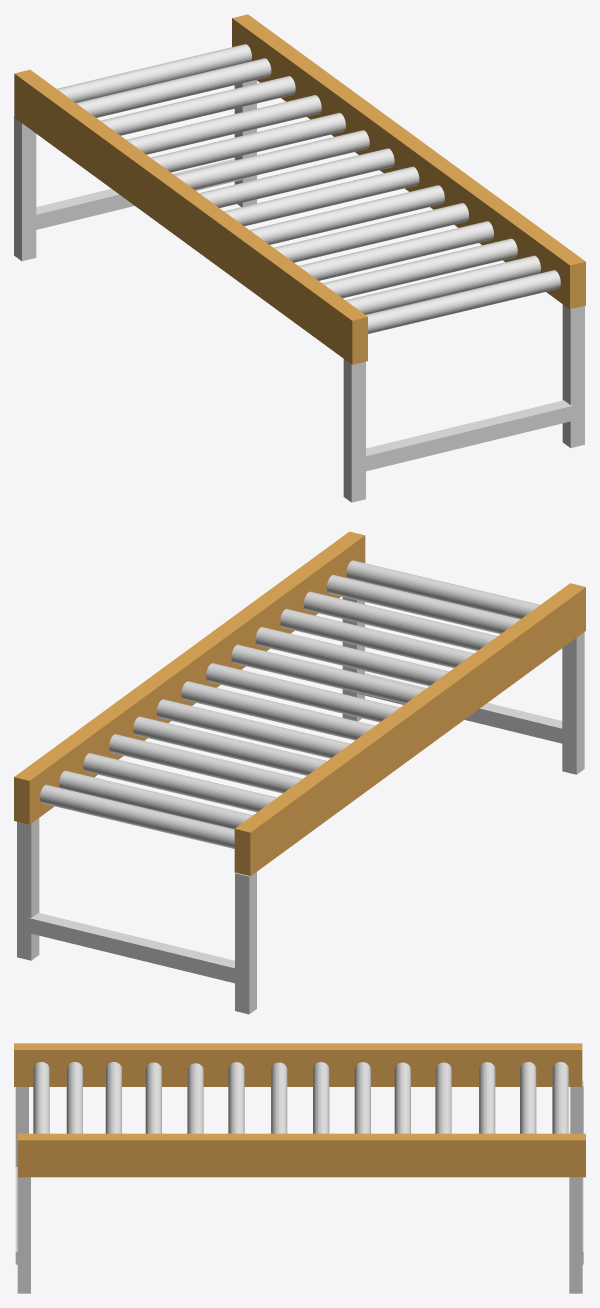
The model's file is transTape.glb.
3 renders of one model, top to bottom at view 1: azimuth 30°, elevation 25°; view 2: azimuth 150°, elevation 25°; view 3: azimuth 270°, elevation 25°, orthographic. The views are drawn at different scales.
Visible parts, largest first — view 1: 柱体, left, 立方体, 立方体.001; view 2: 柱体, left, 立方体.001, 立方体; view 3: left, 柱体, 立方体, 立方体.001.
Part boxes in pixels (x1,y1,x2,y2): 柱体: (57, 44, 560, 333); left: (14, 14, 585, 364); 立方体: (343, 304, 584, 502); 立方体.001: (14, 80, 256, 261); 柱体: (40, 560, 540, 848); left: (14, 531, 585, 876); 立方体.001: (17, 818, 256, 1014); 立方体: (342, 597, 584, 774); left: (14, 1043, 585, 1177); 柱体: (33, 1062, 568, 1133); 立方体: (15, 1087, 30, 1293); 立方体.001: (569, 1080, 583, 1293).
Size of the model in its own units: 1.62 by 1.2 by 4.04.
